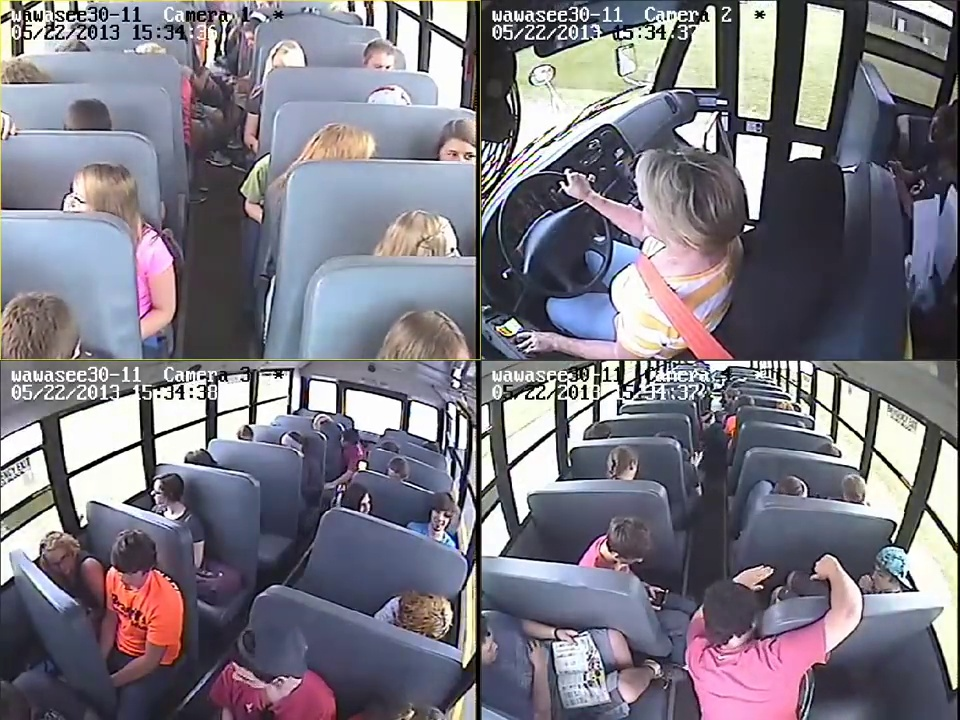face: (442, 131, 475, 157)
